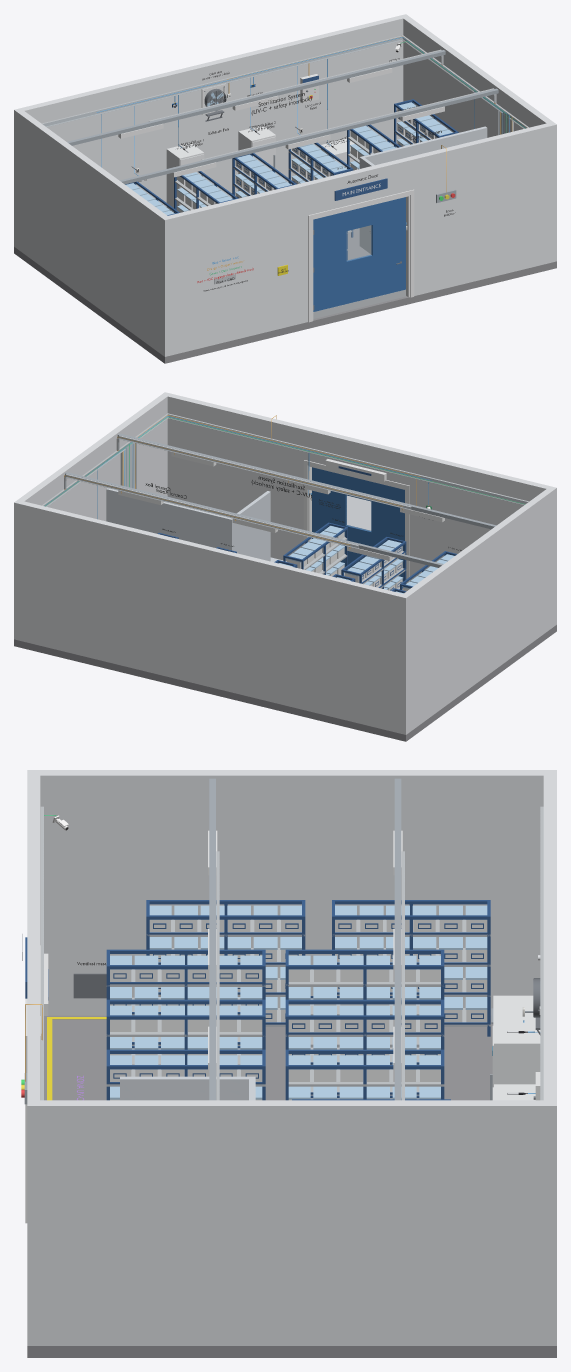
3 renders of one model, top to bottom at view 1: azimuth 30°, elevation 25°; view 2: azimuth 150°, elevation 25°; view 3: azimuth 270°, elevation 25°, orthographic. The views are drawn at different scales.
Parts seen in each view (by area): view 1: Wall_Back, Wall_Left, Wall_Front_Right, Wall_Front_Left, Main_Door, Wall_Right, Warehouse_Floor, Wall_Front_Lintel, Ceiling_Beam_01, Ceiling_Beam_02, Door_Frame, Duct_Back (+20 smaller); view 2: Wall_Back, Wall_Left, Wall_Front_Right, Wall_Front_Left, Wall_Right, Main_Door, Control_Room_Partition_Back, Warehouse_Floor, Wall_Front_Lintel, Duct_Front, Control_Room_Partition_Side, Door_Frame (+12 smaller); view 3: Wall_Right, Wall_Left, Warehouse_Floor, Wall_Back, Vaccine_Boxes_L2, Vaccine_Boxes_L3, Vaccine_Boxes_M3, Vaccine_Boxes_M1, Vaccine_Boxes_M4, Vaccine_Boxes_M2, Vaccine_Boxes_M6, Rack_Left_02 (+22 smaller).
Part boxes in pixels (x1=…): Wall_Back: x1=14, y1=14, x2=409, y2=248; Wall_Left: x1=17, y1=111, x2=171, y2=356; Wall_Front_Right: x1=406, y1=123, x2=550, y2=295; Wall_Front_Left: x1=168, y1=181, x2=311, y2=355; Main_Door: x1=313, y1=197, x2=405, y2=318; Wall_Right: x1=403, y1=17, x2=556, y2=262; Warehouse_Floor: x1=14, y1=183, x2=556, y2=363; Wall_Front_Lintel: x1=308, y1=158, x2=409, y2=214; Ceiling_Beam_01: x1=119, y1=88, x2=498, y2=184; Ceiling_Beam_02: x1=67, y1=50, x2=445, y2=145; Door_Frame: x1=308, y1=189, x2=414, y2=322; Duct_Back: x1=42, y1=35, x2=402, y2=127; Wall_Back: x1=14, y1=500, x2=409, y2=734; Wall_Left: x1=403, y1=486, x2=556, y2=731; Wall_Front_Right: x1=167, y1=393, x2=311, y2=560; Wall_Front_Left: x1=406, y1=452, x2=549, y2=581; Wall_Right: x1=18, y1=392, x2=170, y2=521; Main_Door: x1=312, y1=467, x2=404, y2=581; Control_Room_Partition_Back: x1=106, y1=488, x2=233, y2=550; Warehouse_Floor: x1=14, y1=575, x2=556, y2=741; Wall_Front_Lintel: x1=308, y1=428, x2=409, y2=484; Duct_Front: x1=168, y1=413, x2=528, y2=505; Control_Room_Partition_Side: x1=234, y1=491, x2=270, y2=561; Door_Frame: x1=303, y1=460, x2=409, y2=583; Wall_Right: x1=27, y1=1100, x2=543, y2=1345; Wall_Left: x1=27, y1=770, x2=543, y2=1015; Warehouse_Floor: x1=27, y1=1015, x2=556, y2=1357; Wall_Back: x1=543, y1=770, x2=556, y2=1345; Vaccine_Boxes_L2: x1=335, y1=905, x2=487, y2=1022; Vaccine_Boxes_L3: x1=149, y1=905, x2=301, y2=1022; Vaccine_Boxes_M3: x1=110, y1=1005, x2=262, y2=1055; Vaccine_Boxes_M1: x1=110, y1=955, x2=262, y2=1005; Vaccine_Boxes_M4: x1=288, y1=1005, x2=440, y2=1055; Vaccine_Boxes_M2: x1=288, y1=955, x2=440, y2=1005; Vaccine_Boxes_M6: x1=288, y1=1055, x2=440, y2=1100; Rack_Left_02: x1=332, y1=900, x2=490, y2=1036.
Size of the model in its own units: 12 by 4.71 by 8.2.
